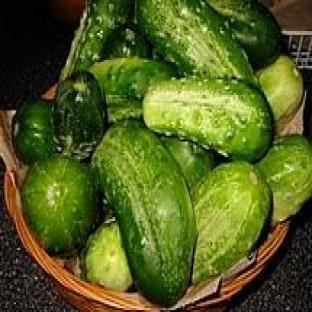Cucumber: (92, 121, 197, 306), (144, 78, 274, 160), (192, 161, 271, 282), (21, 154, 98, 255), (90, 57, 177, 122), (257, 134, 311, 224), (54, 72, 105, 158), (80, 221, 132, 290), (257, 55, 303, 133), (162, 136, 214, 193), (12, 99, 56, 164), (104, 24, 152, 58)
